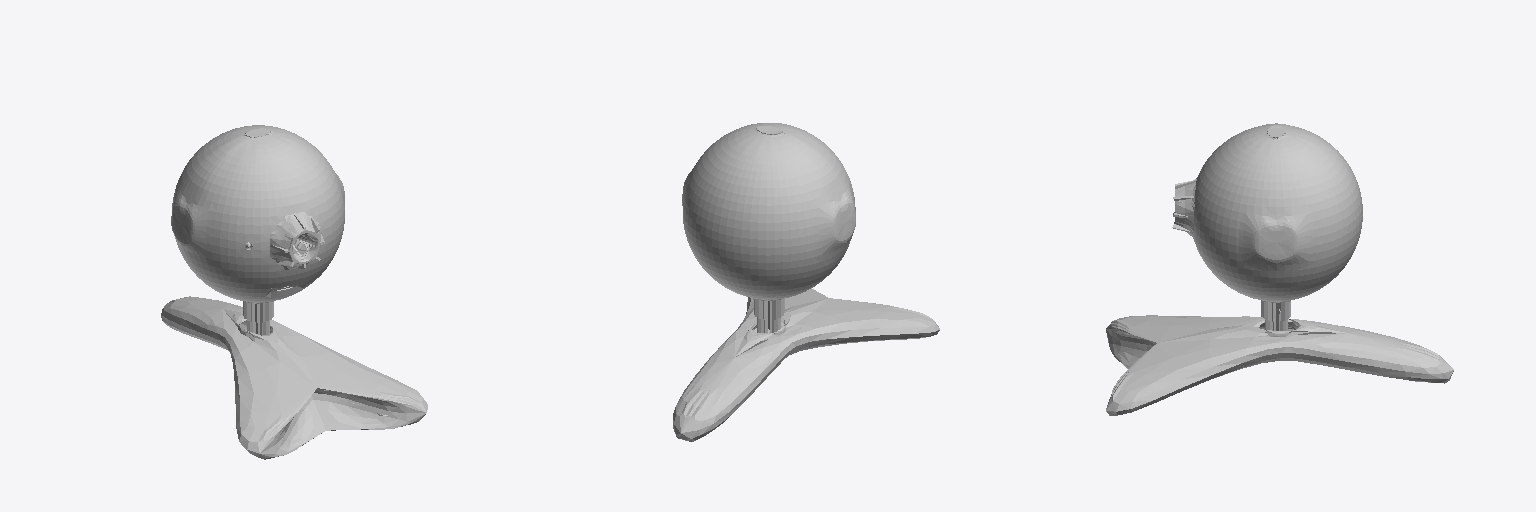
File: Axis IP Camera.obj
3 renders of one model, left to right at view 1: azimuth 30°, elevation 25°; view 2: azimuth 150°, elevation 25°; view 3: azimuth 270°, elevation 25°, orthographic.
Visible parts, largest first — view 1: object2, object10, object6, object8; view 2: object10, object2, object6, object1; view 3: object2, object10, object6, object5, object4.
Part boxes in pixels (x1,y1,x2,y2): object2: (161, 296, 427, 459); object10: (172, 125, 344, 314); object6: (171, 126, 324, 335); object8: (292, 233, 317, 261); object10: (683, 123, 855, 311); object2: (673, 288, 939, 441); object6: (710, 124, 855, 332); object1: (673, 405, 705, 441); object2: (1106, 315, 1453, 415); object10: (1193, 124, 1362, 313); object6: (1172, 123, 1298, 330); object5: (1238, 205, 1315, 270); object4: (1252, 207, 1299, 263).
Bounding box in the file's own units: 6.99 × 9.1 × 11.51.